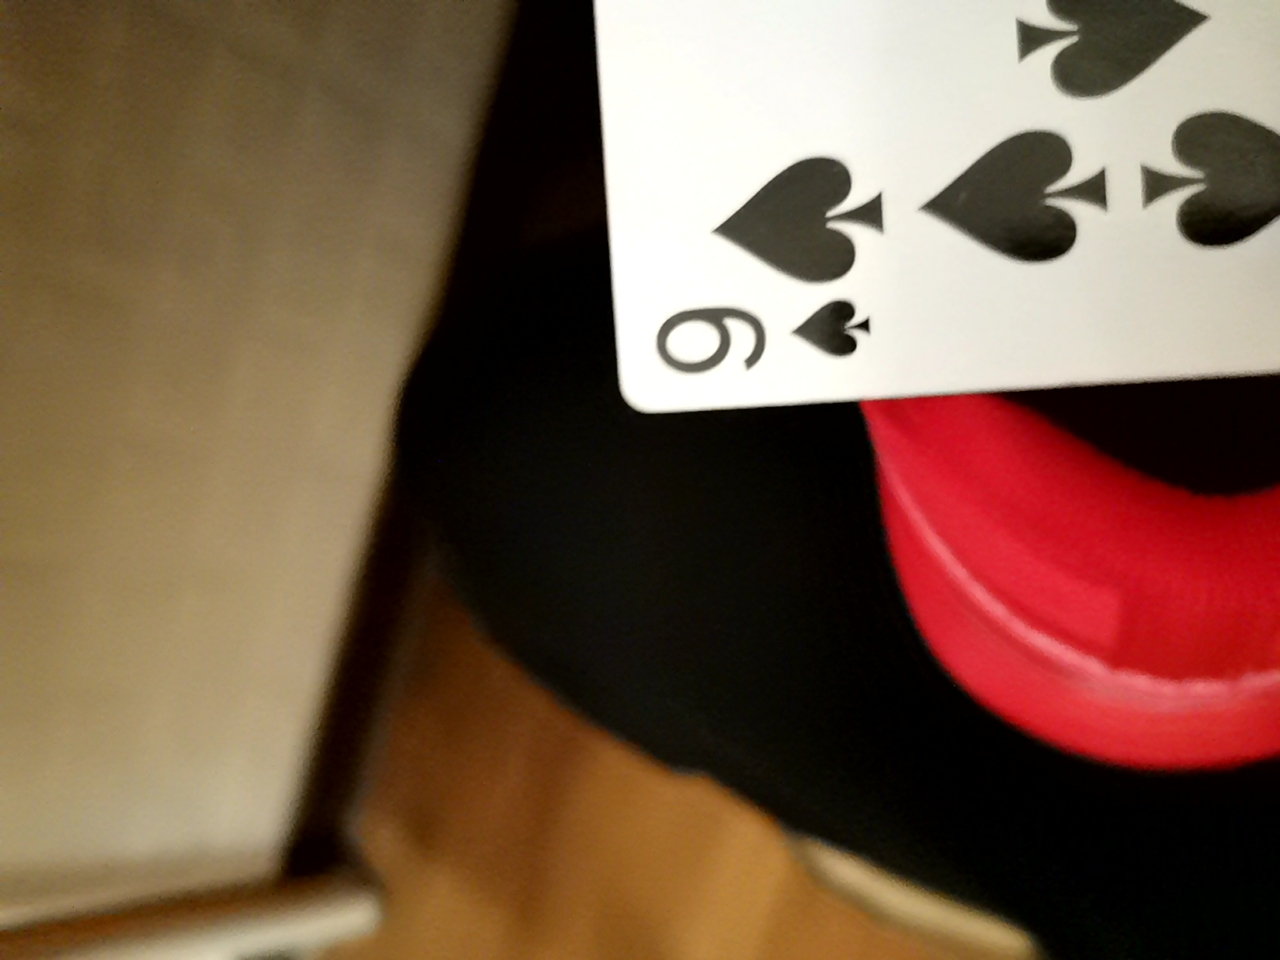ht 9: (459, 8, 1276, 479)
